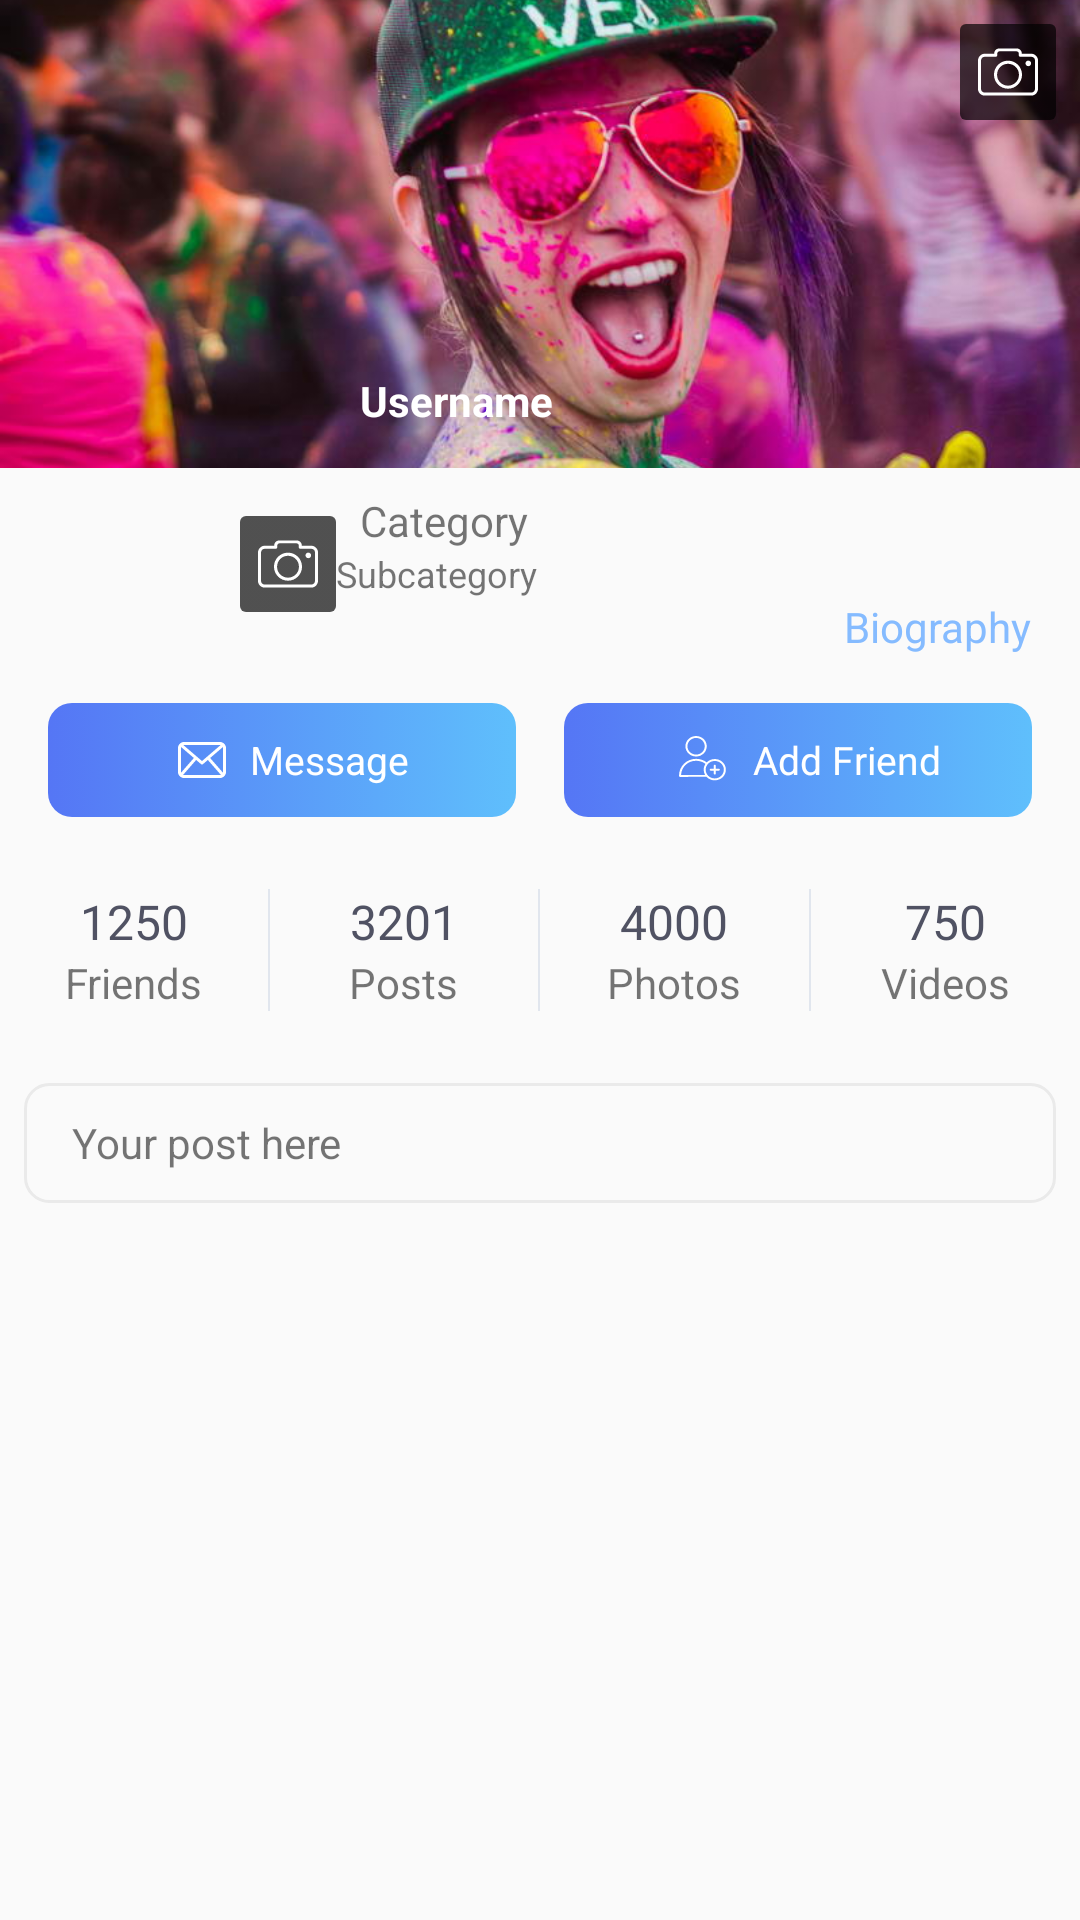

Icons on this 1080px x 1920px Android screen, each with the point to tap as (x,y):
photo: (1008,72), (288,564)
